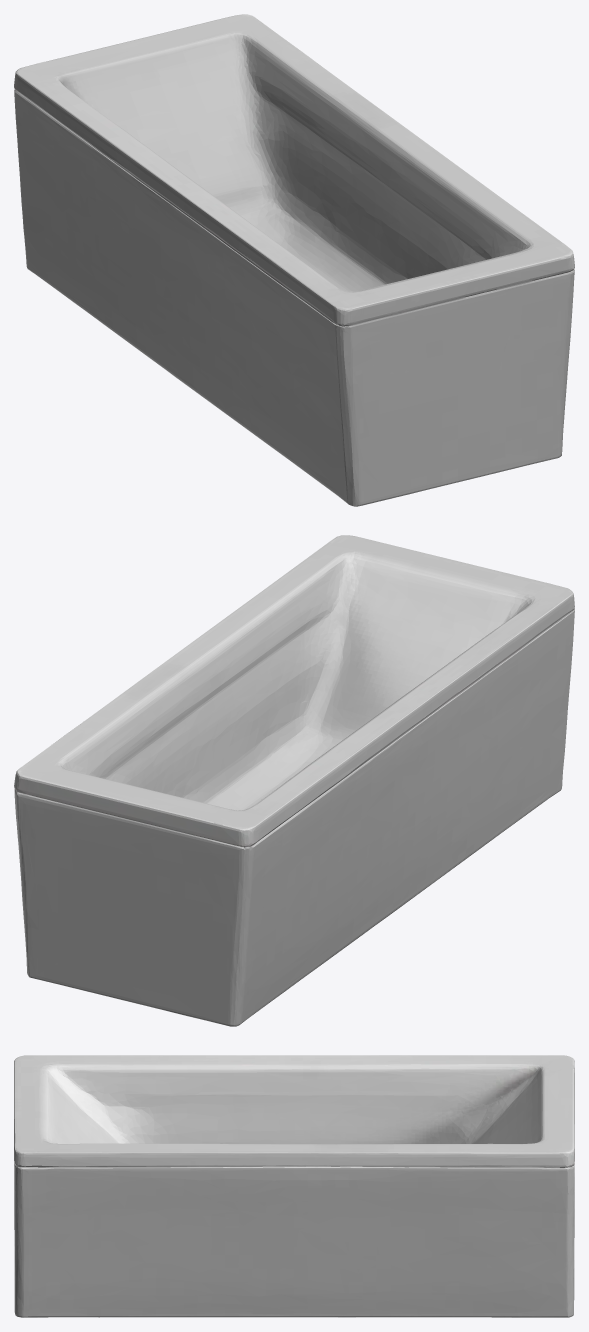
3 views of the same model, one above another, from view 1: azimuth 30°, elevation 25°; view 2: azimuth 150°, elevation 25°; view 3: azimuth 270°, elevation 25° (orthographic). The views are drawn at different scales.
Parts seen in each view (by area): view 1: world; view 2: world; view 3: world.
Boxes of the visible parts, box(x1,y1,x2,y2) form: world: box(14, 14, 574, 506); world: box(14, 535, 574, 1026); world: box(14, 1055, 574, 1317).
Size of the model in its own units: 0.4188 by 0.3365 by 1.
Materials: 1 (1 with a texture image).
